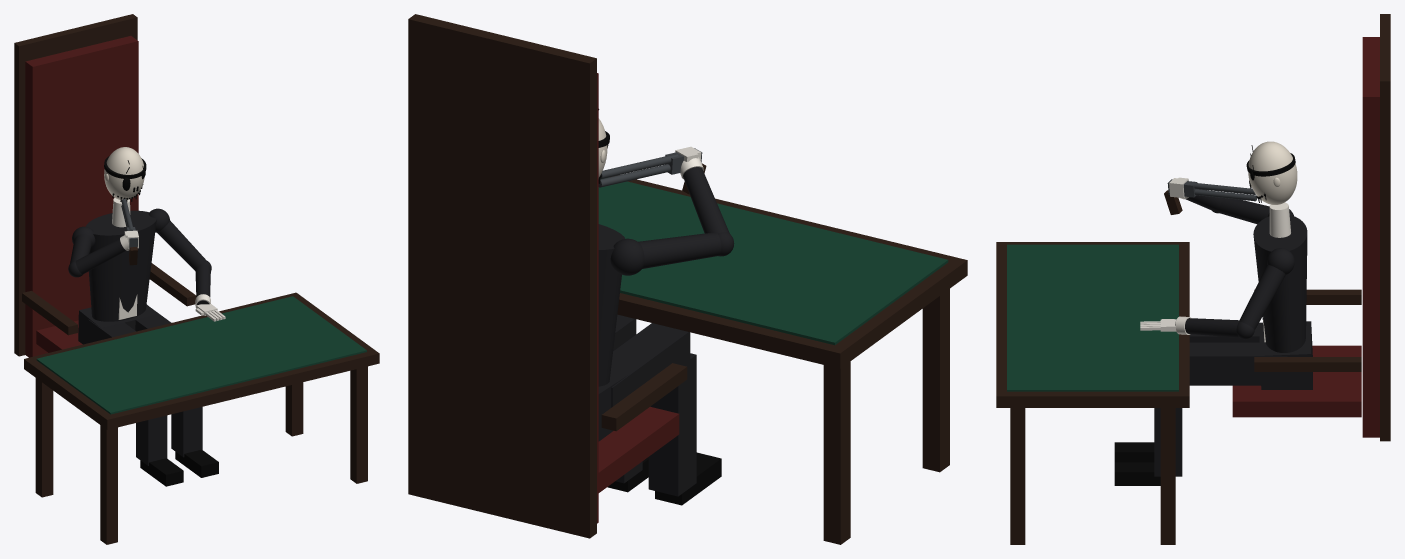
The model's file is le-croupier.glb.
3 renders of one model, left to right at view 1: azimuth 30°, elevation 25°; view 2: azimuth 150°, elevation 25°; view 3: azimuth 270°, elevation 25°, orthographic. The views are drawn at different scales.
Parts seen in each view (by area): view 1: dossier, table_tapis, table_pied (×4), table_plateau, dossier_cadre, veste, tibia (×2), accoudoir (×2), chaussure (×2), masque, avant_bras (×2), bras (+3 smaller); view 2: dossier_cadre, table_tapis, table_plateau, table_pied (×2), tibia, cuisse, assise, veste, accoudoir, bras, avant_bras, chaussure (+3 smaller); view 3: table_tapis, dossier, table_plateau, assise, veste, dossier_cadre, table_pied (×2), cuisse (×2), accoudoir (×2), bras (×2), masque, chaussure (×2) (+5 smaller).
Boxes of the visible parts, left/top/right/bottom form: dossier: left=25, top=36, right=138, bottom=357; table_tapis: left=36, top=296, right=366, bottom=414; table_pied (×4): left=35, top=366, right=367, bottom=544; table_plateau: left=24, top=292, right=379, bottom=429; dossier_cadre: left=14, top=14, right=137, bottom=356; veste: left=86, top=210, right=156, bottom=321; tibia (×2): left=136, top=407, right=202, bottom=465; accoudoir (×2): left=22, top=263, right=196, bottom=335; chaussure (×2): left=140, top=449, right=218, bottom=486; masque: left=104, top=147, right=144, bottom=199; avant_bras (×2): left=75, top=239, right=210, bottom=305; bras: left=157, top=220, right=206, bottom=270; dossier_cadre: left=408, top=14, right=596, bottom=538; table_tapis: left=598, top=178, right=948, bottom=345; table_plateau: left=610, top=175, right=967, bottom=368; table_pied (×2): left=823, top=289, right=949, bottom=544; tibia: left=648, top=353, right=696, bottom=496; cuisse: left=611, top=323, right=690, bottom=407; assise: left=598, top=406, right=679, bottom=492; veste: left=598, top=224, right=625, bottom=386; accoudoir: left=601, top=363, right=687, bottom=431; bras: left=638, top=232, right=721, bottom=268; avant_bras: left=683, top=167, right=729, bottom=233; chaussure: left=655, top=452, right=721, bottom=505; table_tapis: left=1007, top=244, right=1178, bottom=391; dossier: left=1362, top=37, right=1379, bottom=437; table_plateau: left=996, top=242, right=1189, bottom=407; assise: left=1232, top=345, right=1361, bottom=417; veste: left=1253, top=215, right=1307, bottom=352; dossier_cadre: left=1380, top=14, right=1390, bottom=441; table_pied (×2): left=1010, top=408, right=1175, bottom=544; cuisse (×2): left=1189, top=322, right=1287, bottom=385; accoudoir (×2): left=1254, top=289, right=1361, bottom=371; bras (×2): left=1217, top=198, right=1285, bottom=329; masque: left=1248, top=141, right=1297, bottom=204; chaussure (×2): left=1114, top=442, right=1160, bottom=485.
Size of the model in its own units: 1.7 by 2.18 by 1.83.
